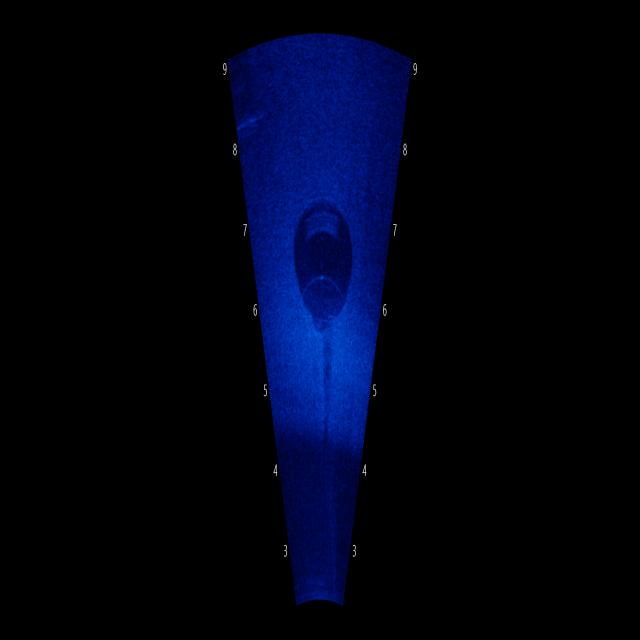circle: (287, 168, 365, 352)
